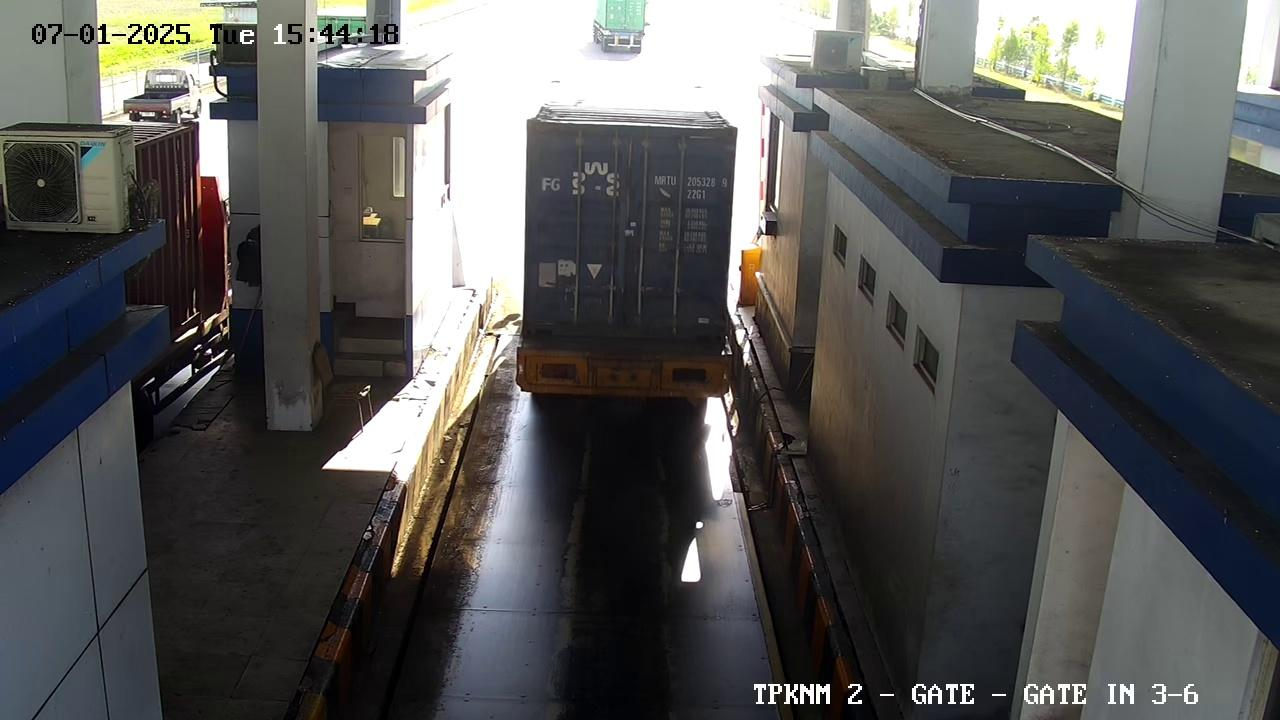Container_ID: (649, 169, 735, 190)
